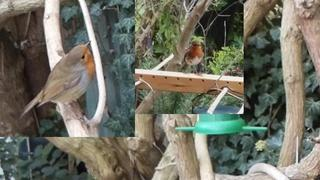robin: (18, 40, 95, 123), (180, 40, 204, 75)
